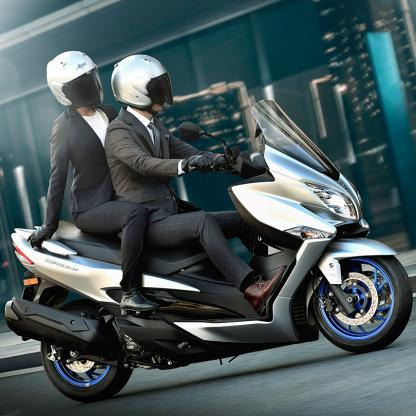helmet: (110, 53, 175, 109), (45, 50, 104, 108)
